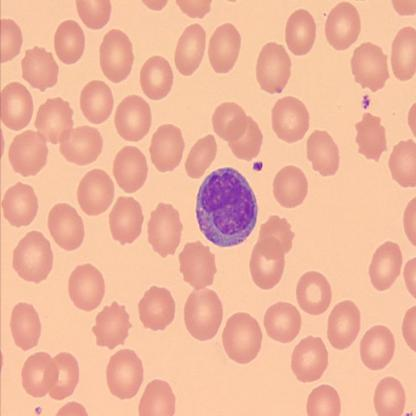Monocyte: (194, 163, 260, 249)
